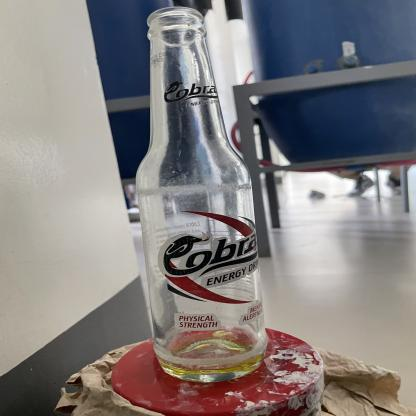Can: (124, 3, 278, 381)
